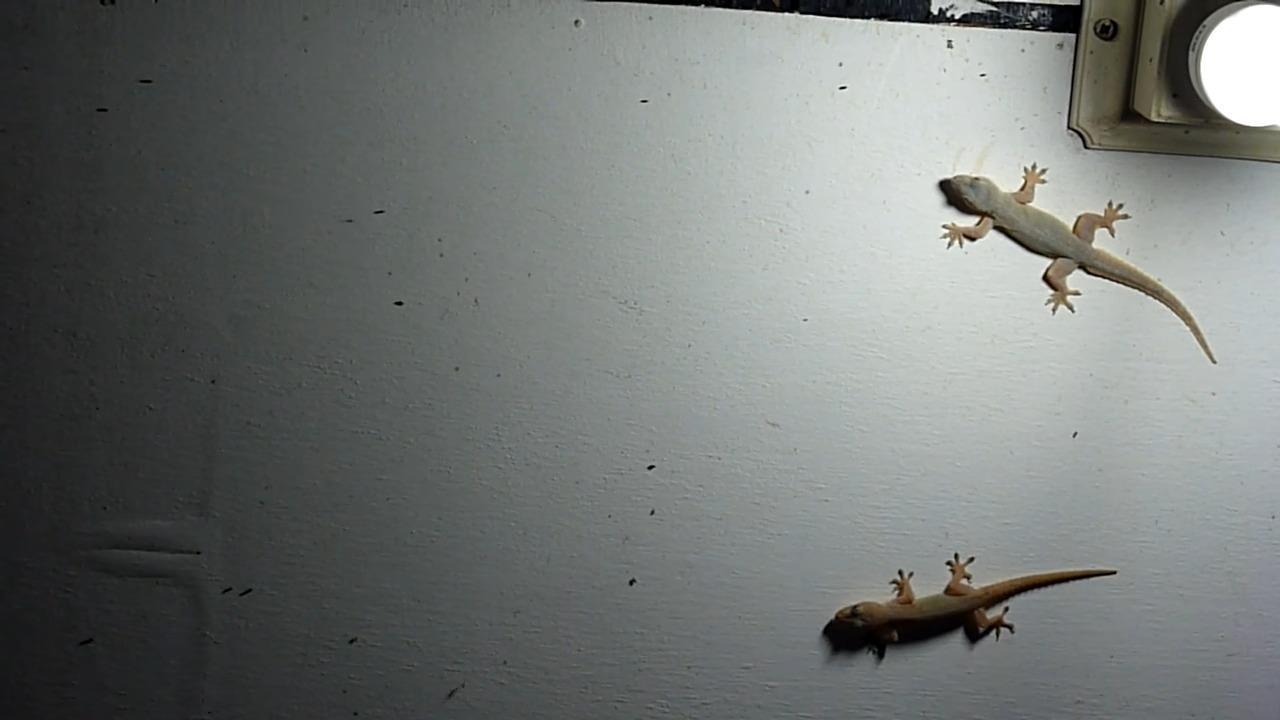lizard: (909, 149, 1233, 385), (797, 525, 1133, 669)
